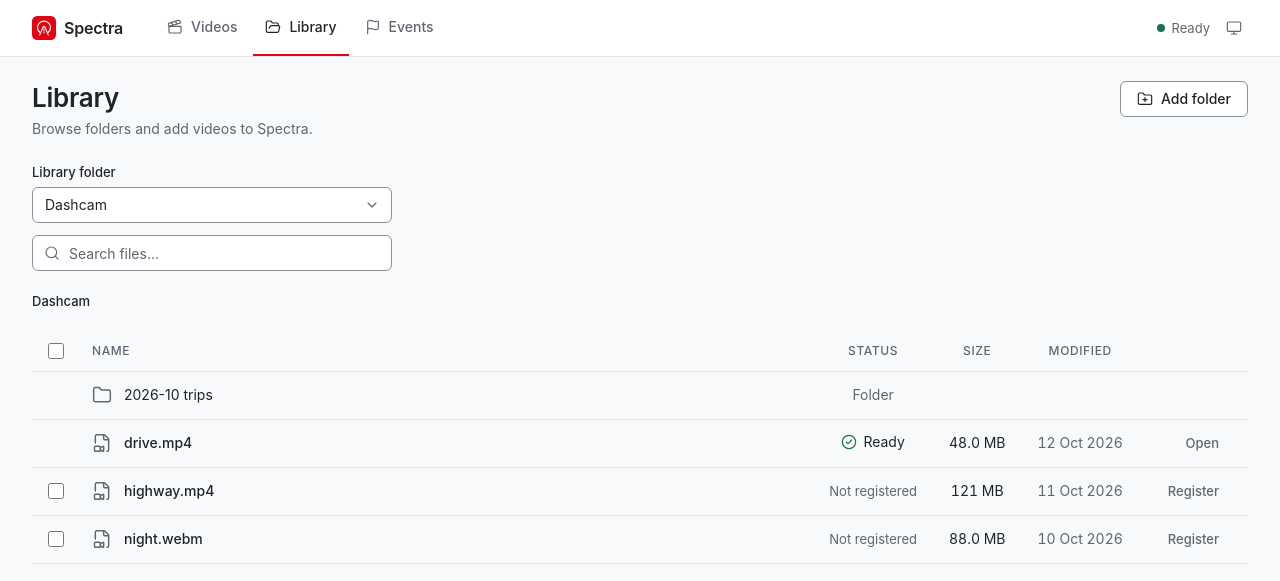
Test: library browsing › switches between several library folders
Expected: the table named "Contents of Dashcam" is shown, [32, 331, 1248, 564]
Select "Archive" in the dropdown labelled "Library folder". click: (212,205)
box: [32, 187, 392, 223]
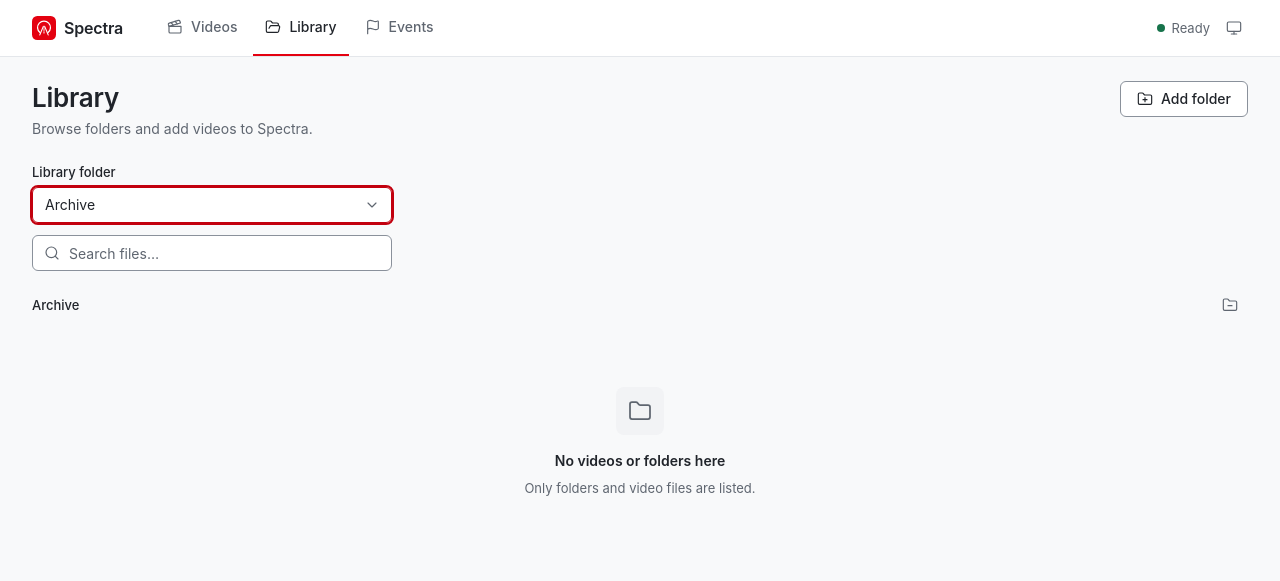
Result: the heading "No videos or folders here" is shown at [555, 451, 725, 471]
